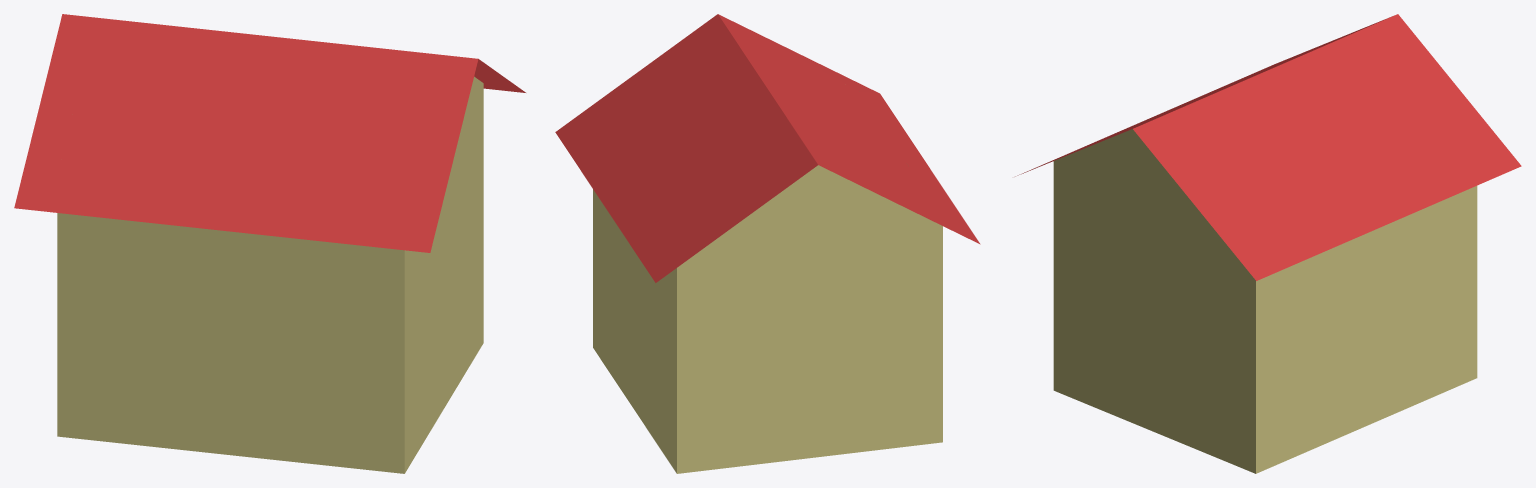
3 renders of one model, left to right at view 1: azimuth 30°, elevation 25°; view 2: azimuth 150°, elevation 25°; view 3: azimuth 270°, elevation 25°, orthographic. The views are drawn at different scales.
Size of the model in its own units: 16.34 by 16.32 by 10.99.
